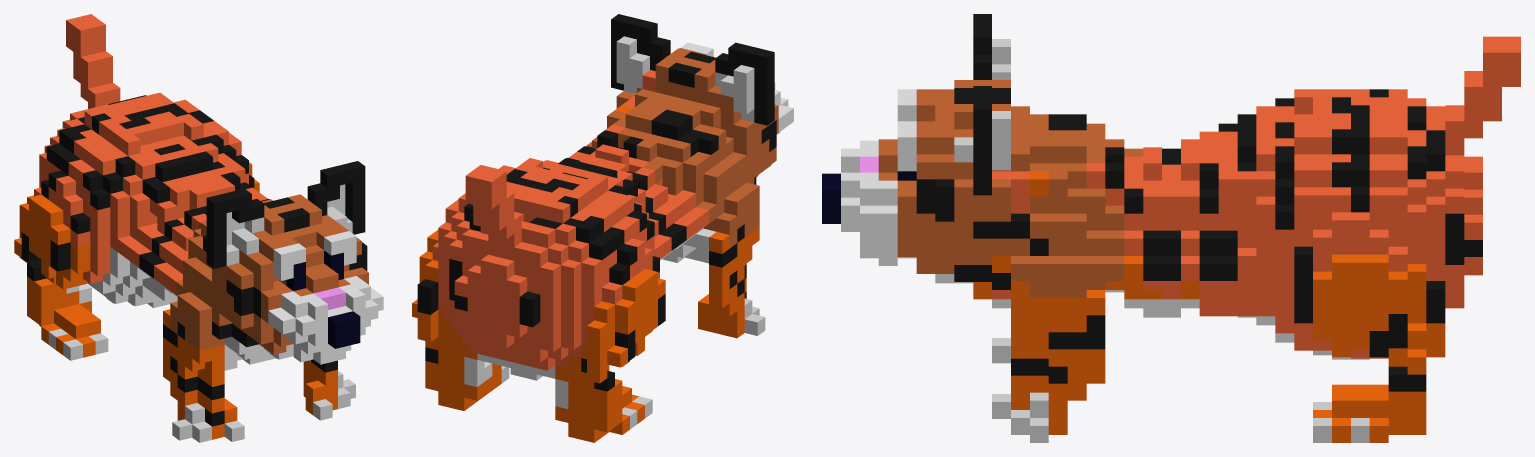
Rendered from TIGERR.gltf.
3 views of the same model, side by side, from view 1: azimuth 30°, elevation 25°; view 2: azimuth 150°, elevation 25°; view 3: azimuth 270°, elevation 25° (orthographic). The views are drawn at different scales.
Visible parts, largest first — view 1: Tiger.003; view 2: Tiger.003; view 3: Tiger.003.
Boxes of the visible parts, bbox=[...] form: Tiger.003: bbox=[14, 14, 383, 442]; Tiger.003: bbox=[412, 14, 793, 442]; Tiger.003: bbox=[822, 14, 1520, 442].
Bounding box in the file's own units: 1.6 × 2 × 3.7.
Materials: 1 (1 with a texture image).
